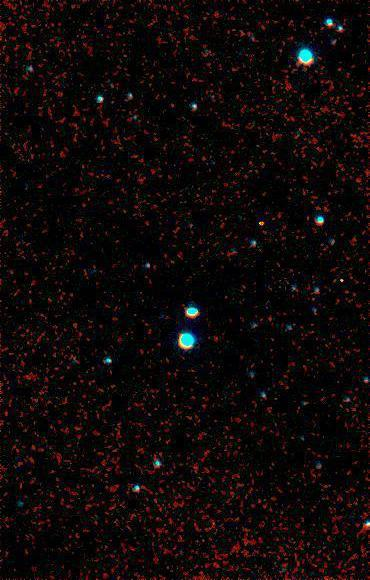star: (325, 264, 355, 294)
